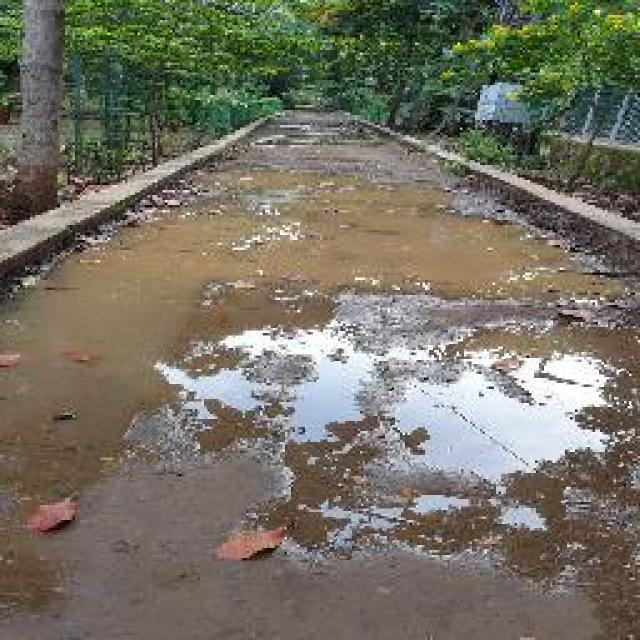puddle: (147, 311, 640, 561)
